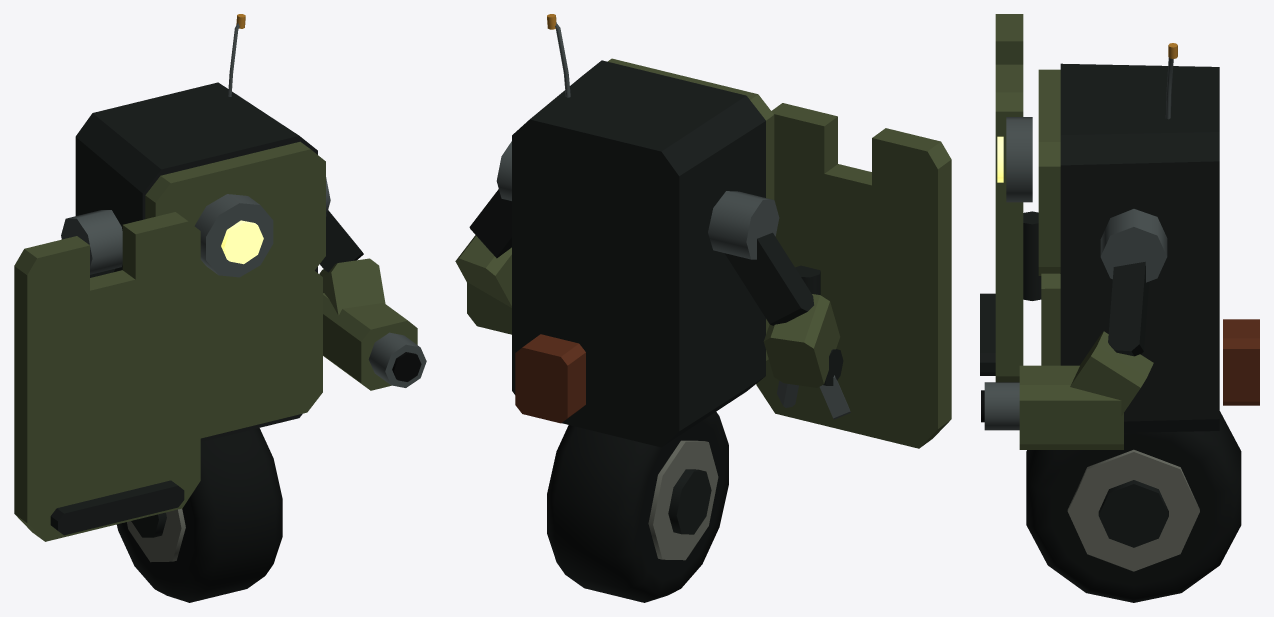
File: SHIELD_KLONK.far.glb
The picture shows the model from 3 angles, left to right: view 1: azimuth 30°, elevation 25°; view 2: azimuth 150°, elevation 25°; view 3: azimuth 270°, elevation 25°; orthographic projection. The views are drawn at different scales.
Visible parts, largest first — view 1: body_geometry, shield_geometry, wheel_geometry, armR_geometry, armL_geometry; view 2: body_geometry, shield_geometry, wheel_geometry, armL_geometry, armR_geometry; view 3: body_geometry, wheel_geometry, armR_geometry, shield_geometry.
Boxes of the visible parts, box(x1,y1,x2,y2) form: body_geometry: box(75, 14, 325, 441); shield_geometry: box(14, 212, 200, 541); wheel_geometry: box(116, 428, 282, 602); armR_geometry: box(319, 177, 426, 390); armL_geometry: box(61, 210, 122, 277); body_geometry: box(512, 14, 774, 447); shield_geometry: box(756, 103, 951, 448); wheel_geometry: box(547, 412, 728, 602); armL_geometry: box(708, 191, 850, 419); armR_geometry: box(455, 141, 511, 334); body_geometry: box(997, 43, 1259, 432); wheel_geometry: box(1026, 411, 1241, 602); armR_geometry: box(981, 209, 1167, 449); shield_geometry: box(980, 14, 1041, 382).
Bounding box in the file's own units: 1.01 × 1.3 × 0.5725.
2 materials, 1 textured.
